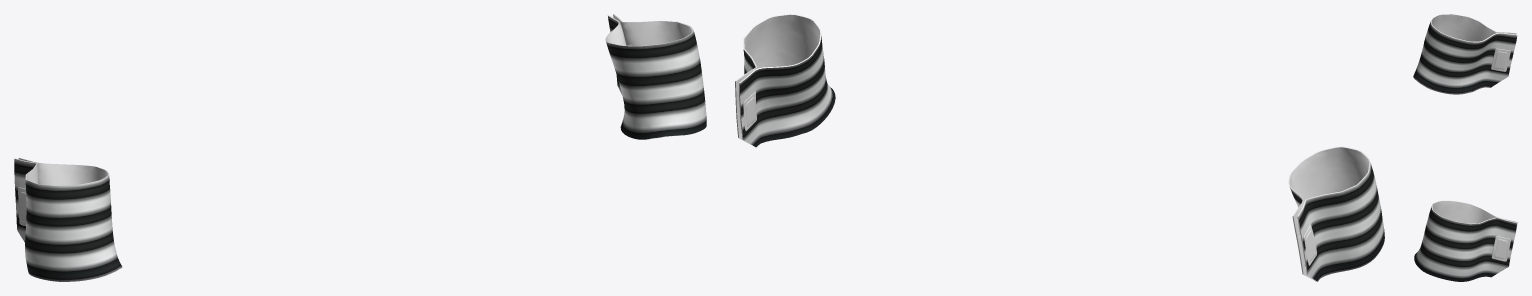
The model's file is French_Notch.glb.
3 views of the same model, side by side, from view 1: azimuth 30°, elevation 25°; view 2: azimuth 150°, elevation 25°; view 3: azimuth 270°, elevation 25° (orthographic). The views are drawn at different scales.
Parts seen in each view (by area): view 1: Pattern_2052456_Node, Pattern_2052459_Node; view 2: Pattern_2052459_Node, Pattern_2052456_Node; view 3: Pattern_2052459_Node, Pattern_2052456_Node, metal_Node.006, metal_Node, metal_Node.005, metal_Node.003.
Part boxes in pixels (x1=…): Pattern_2052456_Node: x1=14, y1=157, x2=122, y2=281; Pattern_2052459_Node: x1=605, y1=14, x2=706, y2=139; Pattern_2052459_Node: x1=735, y1=14, x2=835, y2=147; Pattern_2052456_Node: x1=1288, y1=146, x2=1384, y2=281; Pattern_2052459_Node: x1=1414, y1=200, x2=1517, y2=281; Pattern_2052456_Node: x1=1413, y1=14, x2=1517, y2=94; metal_Node.006: x1=1491, y1=236, x2=1510, y2=261; metal_Node: x1=1491, y1=48, x2=1510, y2=71; metal_Node.005: x1=1494, y1=239, x2=1507, y2=258; metal_Node.003: x1=1494, y1=51, x2=1507, y2=69.
Size of the model in its own units: 59.53 by 9.28 by 12.51.
Materials: 30 (2 with a texture image).
